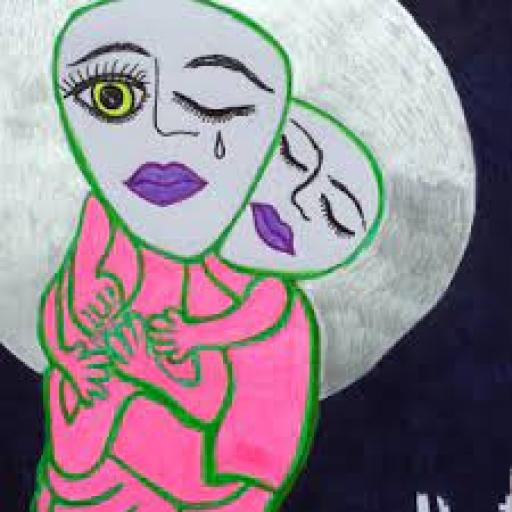person: (26, 0, 326, 512), (206, 98, 389, 283)
